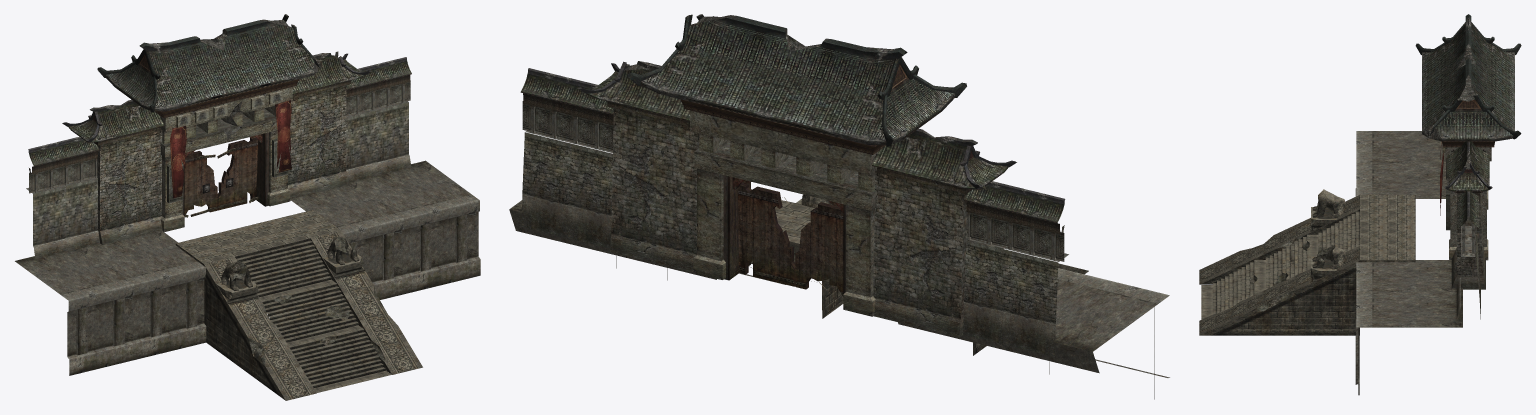
Rendered from b_general_stair_01.glb.
3 renders of one model, left to right at view 1: azimuth 30°, elevation 25°; view 2: azimuth 150°, elevation 25°; view 3: azimuth 270°, elevation 25°, orthographic. The views are drawn at different scales.
Visible parts, largest first — view 1: a1s-002-inwall-02; view 2: a1s-002-inwall-02; view 3: a1s-002-inwall-02.
Boxes of the visible parts, left/top/right/bottom form: a1s-002-inwall-02: left=15, top=14, right=480, bottom=400; a1s-002-inwall-02: left=509, top=14, right=1169, bottom=399; a1s-002-inwall-02: left=1199, top=14, right=1521, bottom=395.
Bounding box in the file's own units: 34.12 × 20.58 × 23.62.
3 materials, 3 textured.
